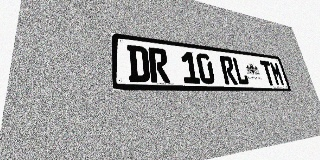0: (195, 53, 216, 84)
1: (180, 51, 200, 84)
D: (127, 45, 150, 82)
L: (232, 57, 250, 85)
M: (269, 61, 285, 86)
R: (148, 47, 170, 83), (219, 55, 238, 85)
T: (259, 60, 276, 86)
